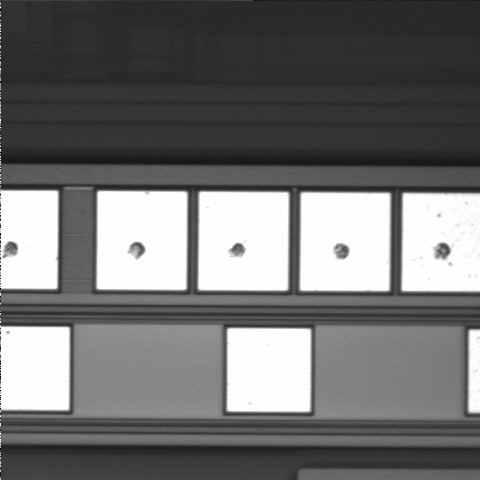pad: (198, 192, 289, 290), (97, 191, 187, 290), (300, 193, 390, 291), (227, 328, 311, 412)
